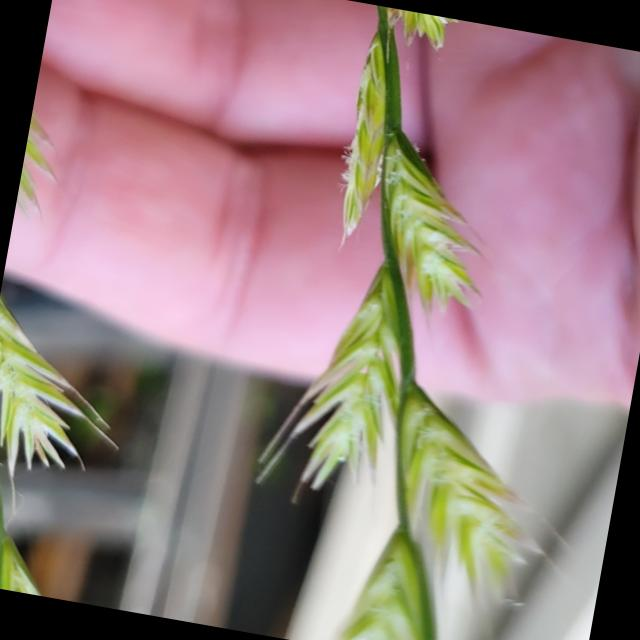Lolium: (223, 0, 640, 640)
